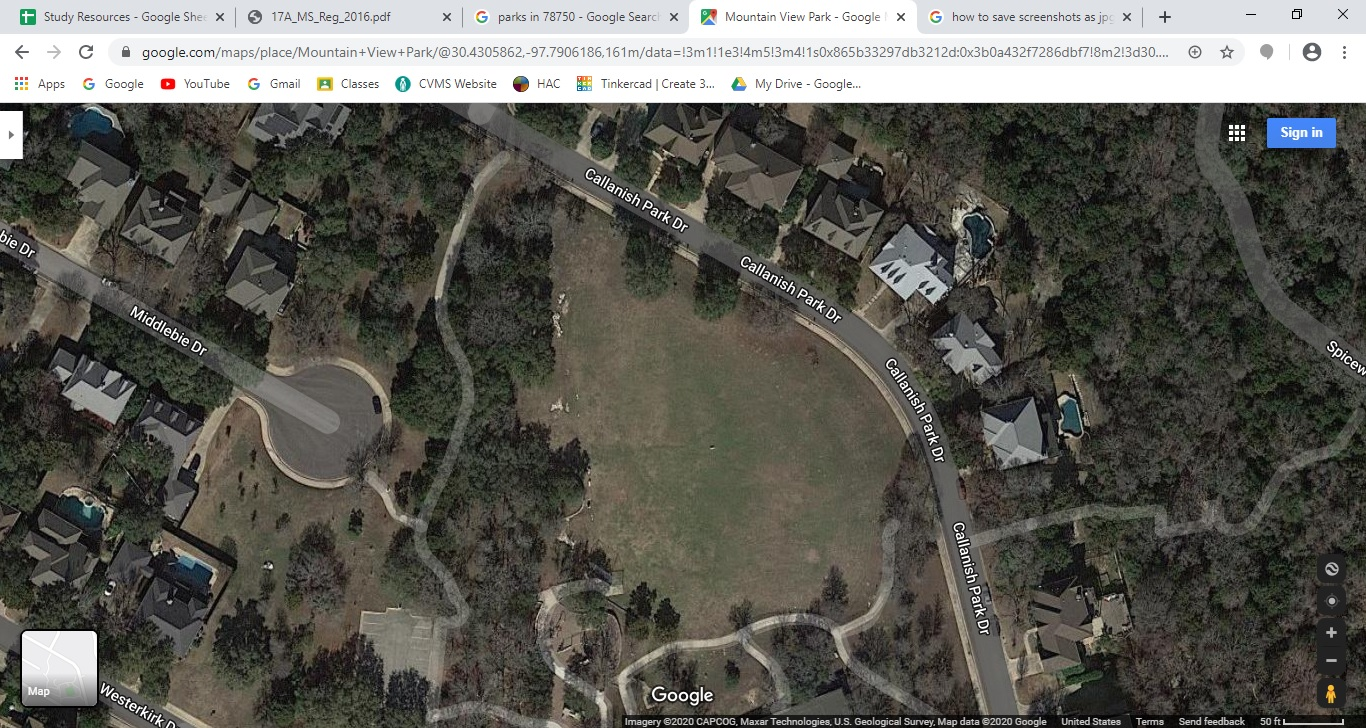soccer: (544, 311, 838, 565)
